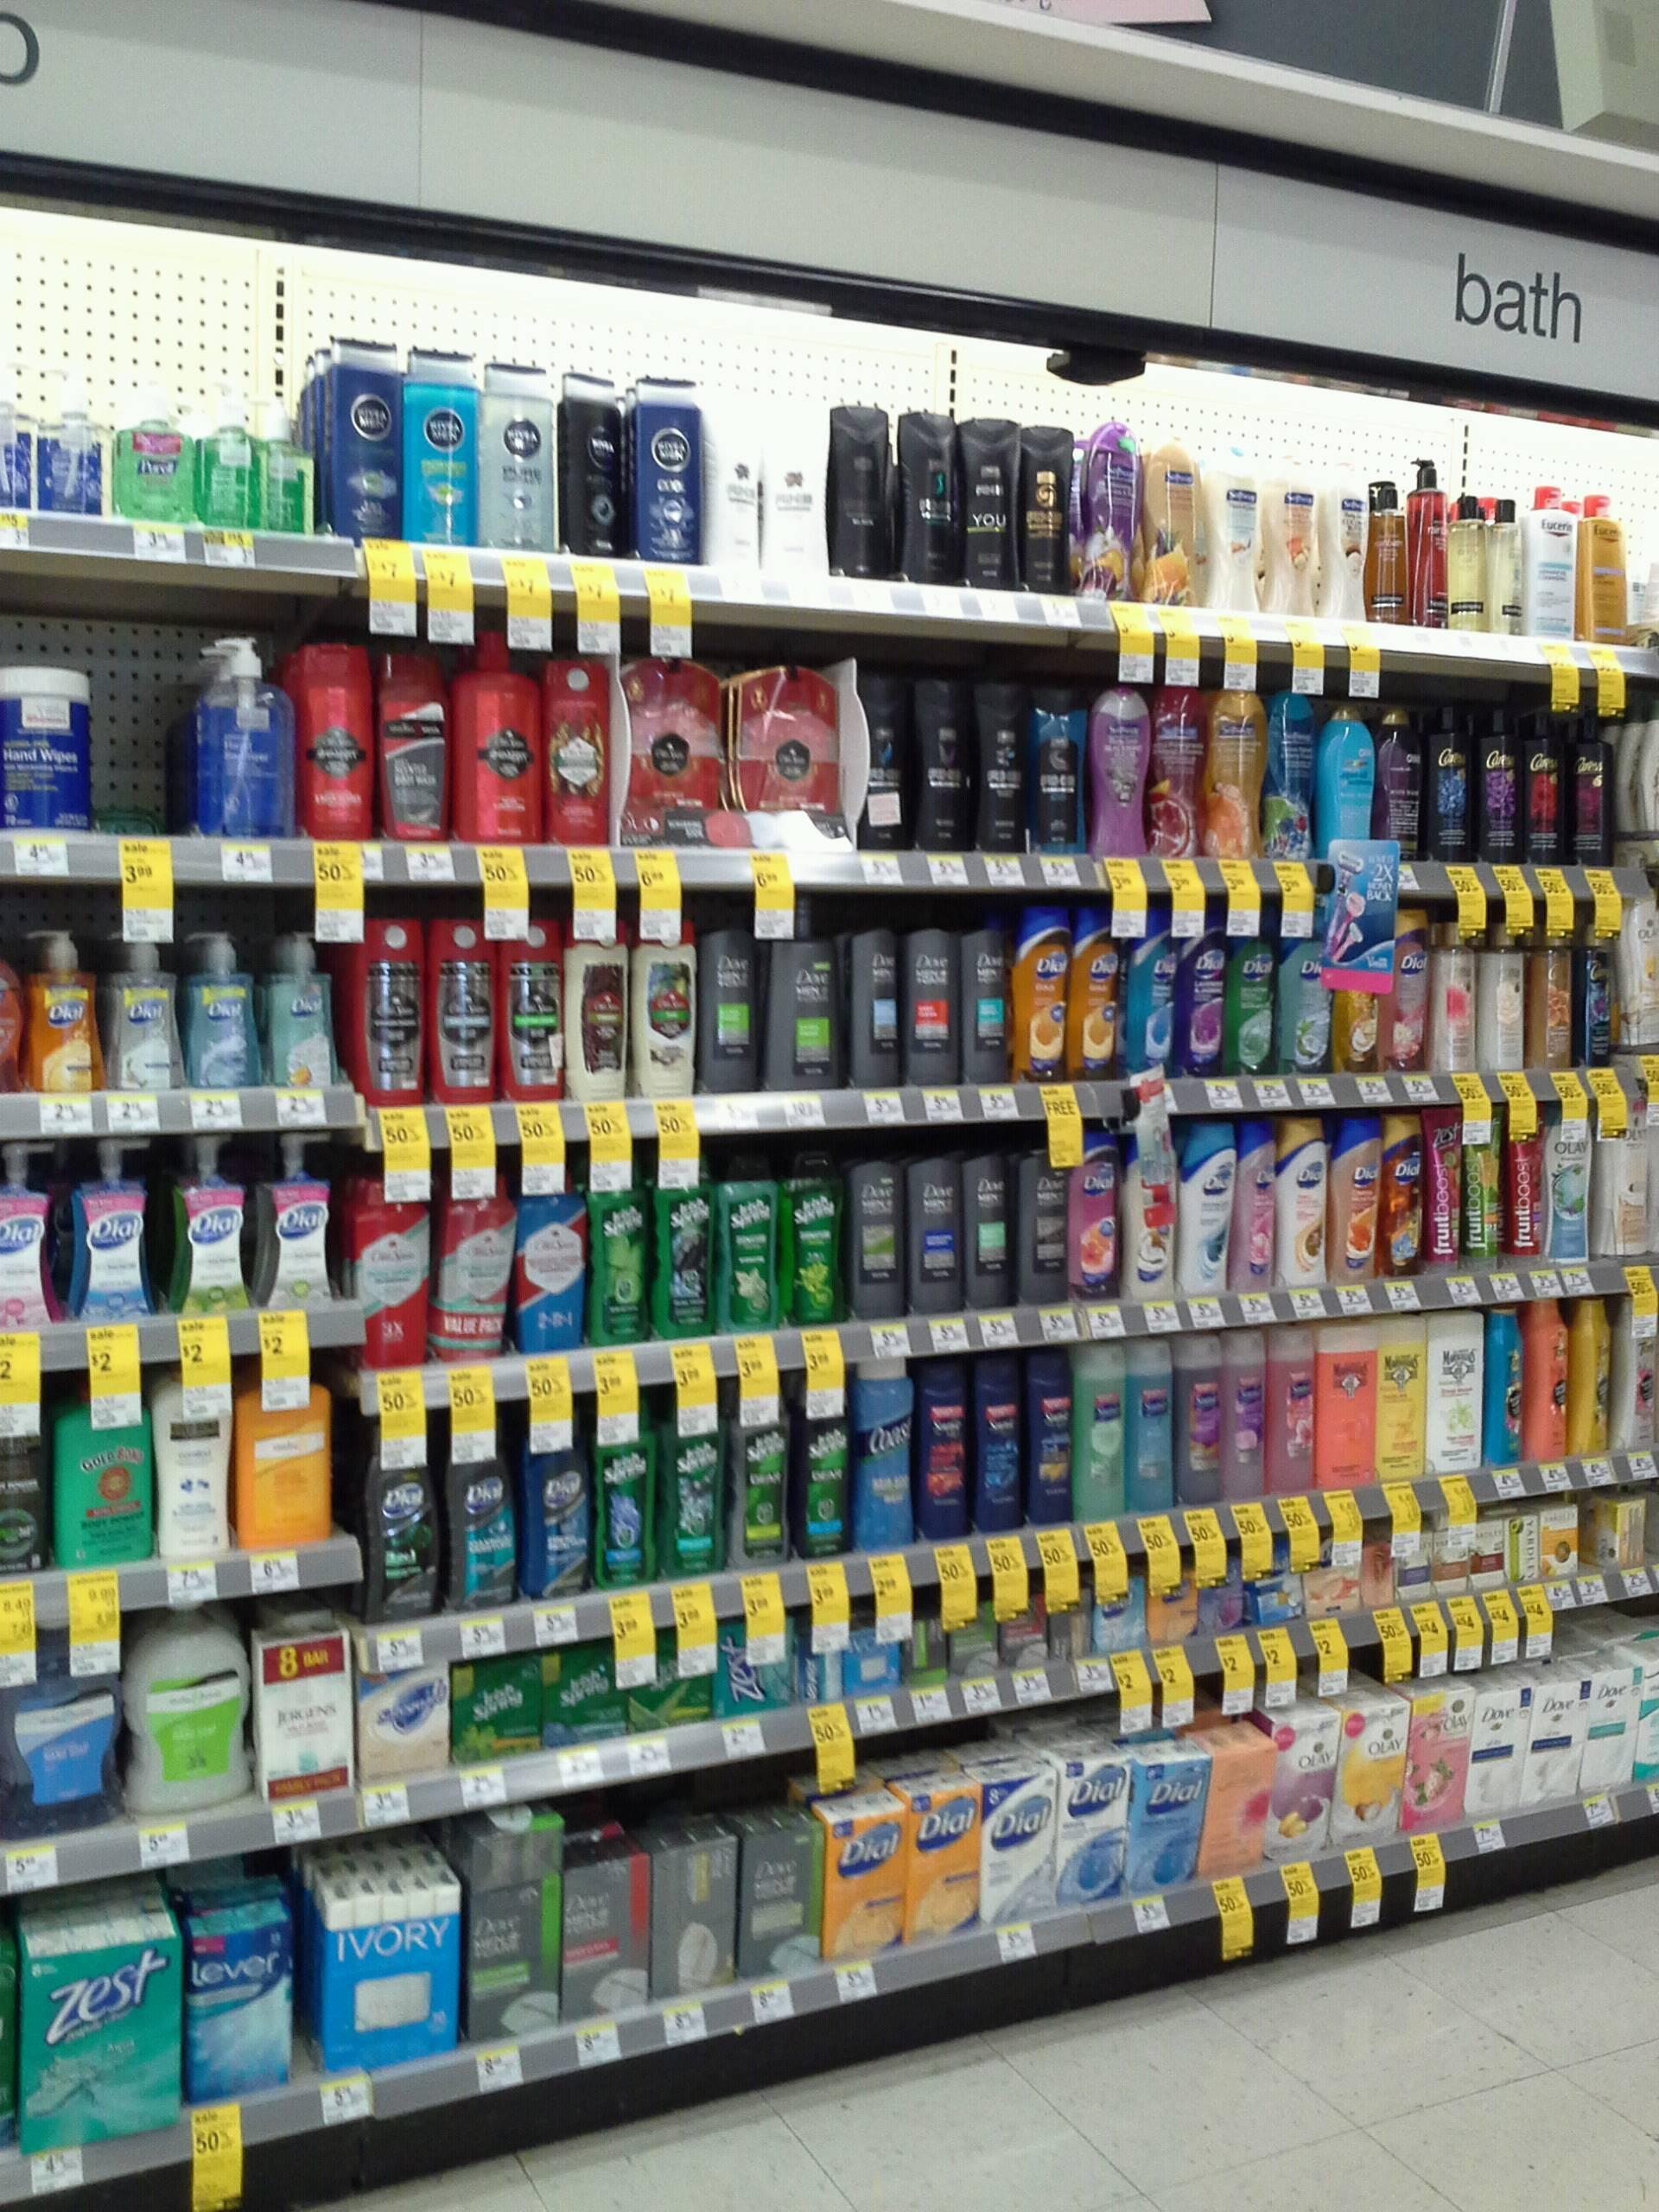empty: (94, 678, 179, 827)
